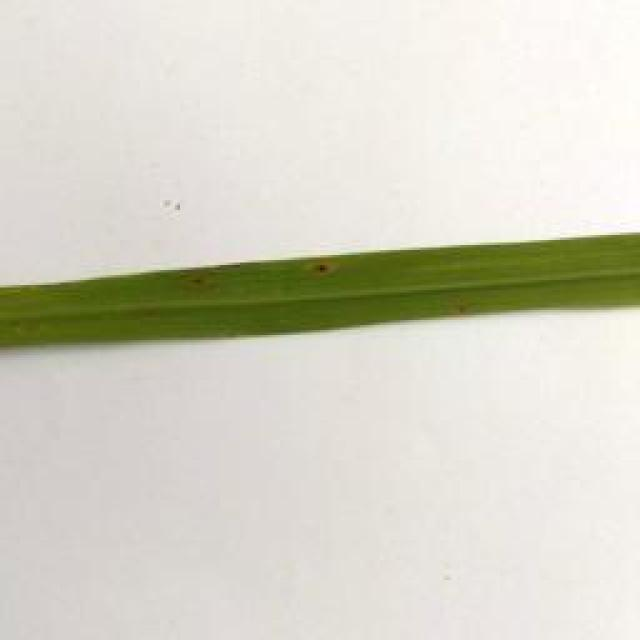Brown_Spot: (297, 252, 339, 280), (187, 268, 215, 293), (451, 296, 476, 323)
